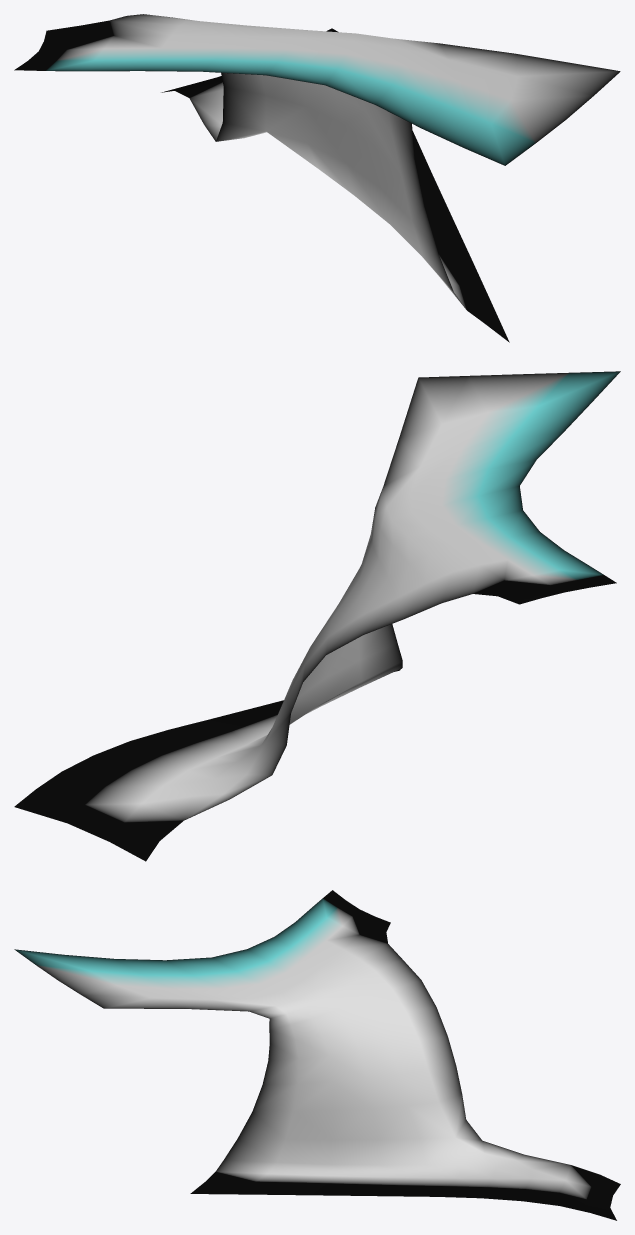
File: cascade2VC.fbx
The picture shows the model from 3 angles, top to bottom: view 1: azimuth 30°, elevation 25°; view 2: azimuth 150°, elevation 25°; view 3: azimuth 270°, elevation 25°; orthographic projection. The views are drawn at different scales.
Visible parts, largest first — view 1: Cascade2; view 2: Cascade2; view 3: Cascade2.
Part boxes in pixels (box(x1,y1,x2,y2)): Cascade2: box(14, 14, 620, 342); Cascade2: box(14, 371, 620, 861); Cascade2: box(14, 890, 620, 1220).
Bounding box in the file's own units: 110 × 60.6 × 166.
